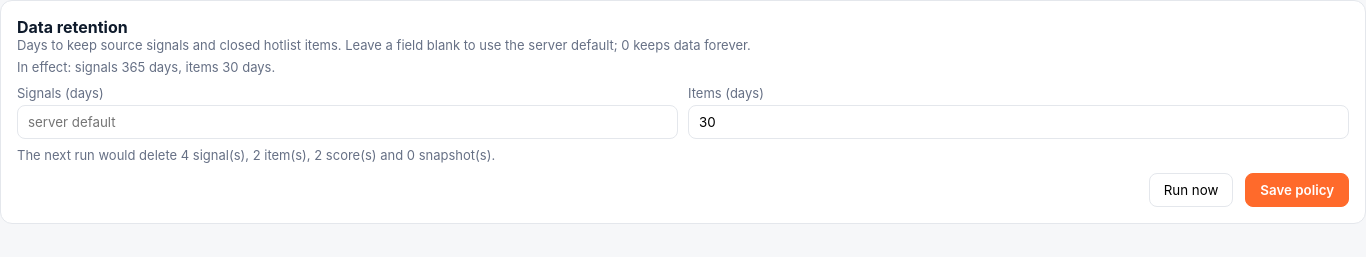
Test: RetentionSection › confirms before purging
Click the button "Run now". click: {"x": 1191, "y": 190}
box: [1149, 173, 1233, 207]
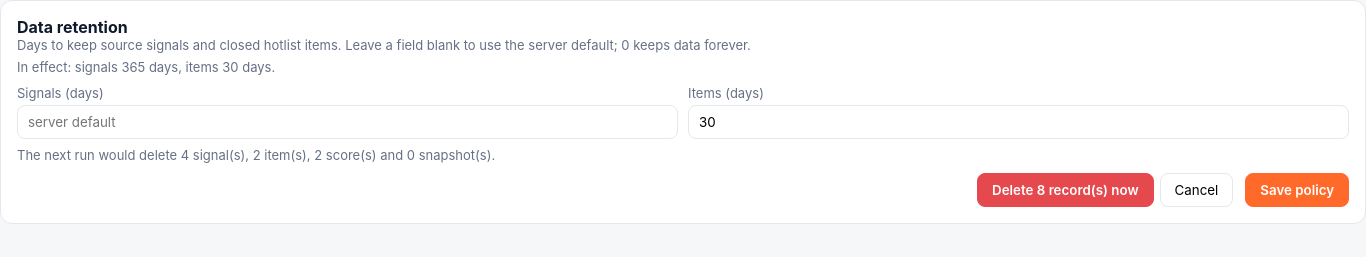
Click the button "Delete 8 record(s) now". click: {"x": 1065, "y": 190}
box: [977, 173, 1154, 207]
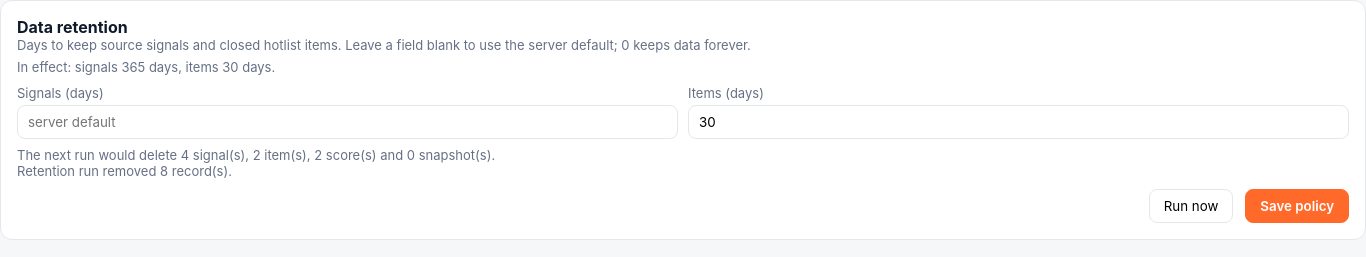
Expected: the text "Retention run removed 8 record(s)." is shown, [17, 163, 232, 179]
